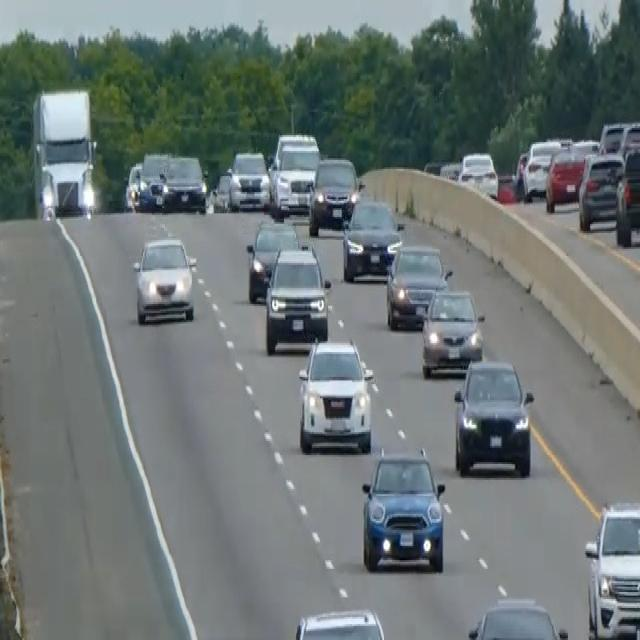car: (360, 447, 446, 572), (452, 356, 534, 476), (297, 336, 374, 453), (584, 498, 639, 638), (264, 242, 331, 354), (131, 233, 197, 323), (420, 286, 485, 377), (385, 242, 451, 329), (341, 197, 403, 281), (245, 217, 299, 302), (269, 130, 320, 215), (308, 154, 362, 234), (467, 596, 568, 638), (578, 149, 624, 231), (294, 606, 385, 638), (544, 144, 586, 212), (160, 153, 207, 213), (228, 148, 271, 210), (522, 137, 562, 199), (615, 142, 639, 245), (457, 149, 499, 199), (136, 149, 169, 210), (598, 119, 629, 155), (209, 169, 232, 211), (124, 160, 142, 210)
lorry: (30, 86, 97, 220)
